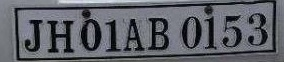numberplate: (11, 1, 279, 61)
